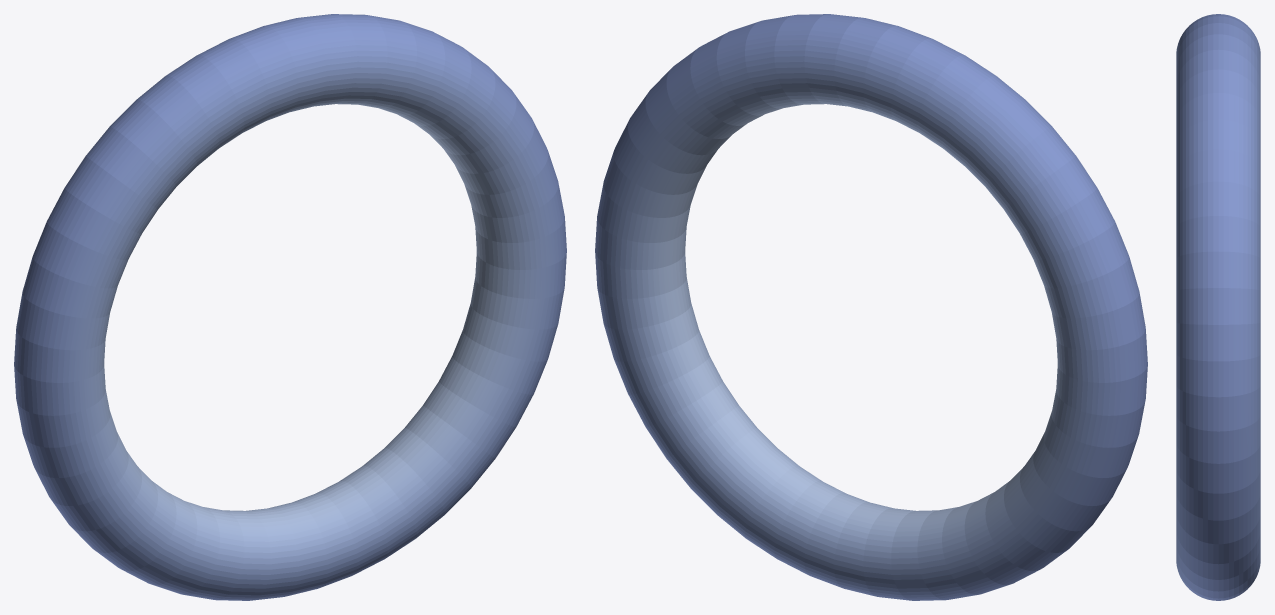
The picture shows the model from 3 angles, left to right: view 1: azimuth 30°, elevation 25°; view 2: azimuth 150°, elevation 25°; view 3: azimuth 270°, elevation 25°; orthographic projection. The views are drawn at different scales.
Parts seen in each view (by area): view 1: world; view 2: world; view 3: world.
Boxes of the visible parts, x1,y1,x2,y2 form: world: (14, 14, 566, 600); world: (595, 14, 1147, 600); world: (1176, 14, 1260, 600).
Size of the model in its own units: 24.93 by 24.88 by 3.59.
